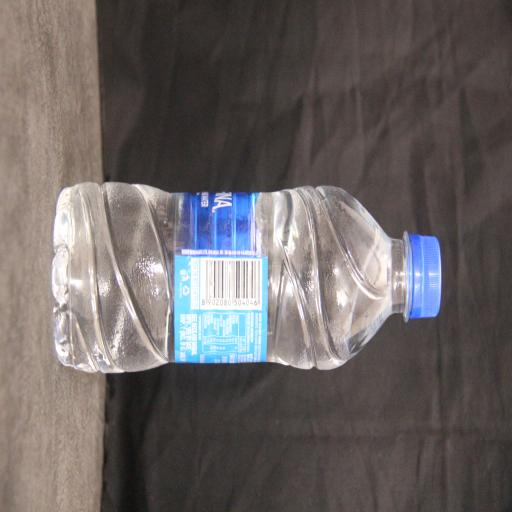Aquafina: (111, 87, 272, 512)
